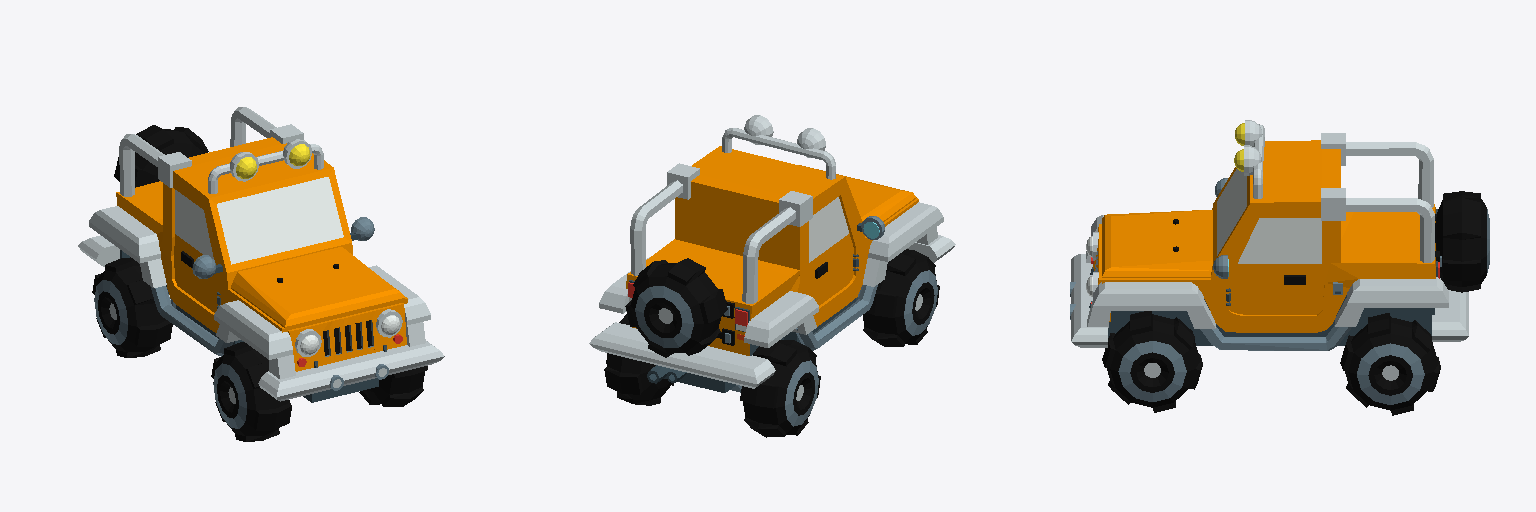
File: jeep.obj
3 views of the same model, side by side, from view 1: azimuth 30°, elevation 25°; view 2: azimuth 150°, elevation 25°; view 3: azimuth 270°, elevation 25° (orthographic).
Visible parts, largest first — view 1: mesh[number redacted]; view 2: mesh[number redacted]; view 3: mesh[number redacted].
Boxes of the visible parts, box(x1,y1,x2,y2) form: mesh[number redacted]: box(78, 107, 444, 441); mesh[number redacted]: box(589, 115, 955, 437); mesh[number redacted]: box(1070, 120, 1489, 415).
Size of the model in its own units: 0.6868 by 0.8703 by 1.36.